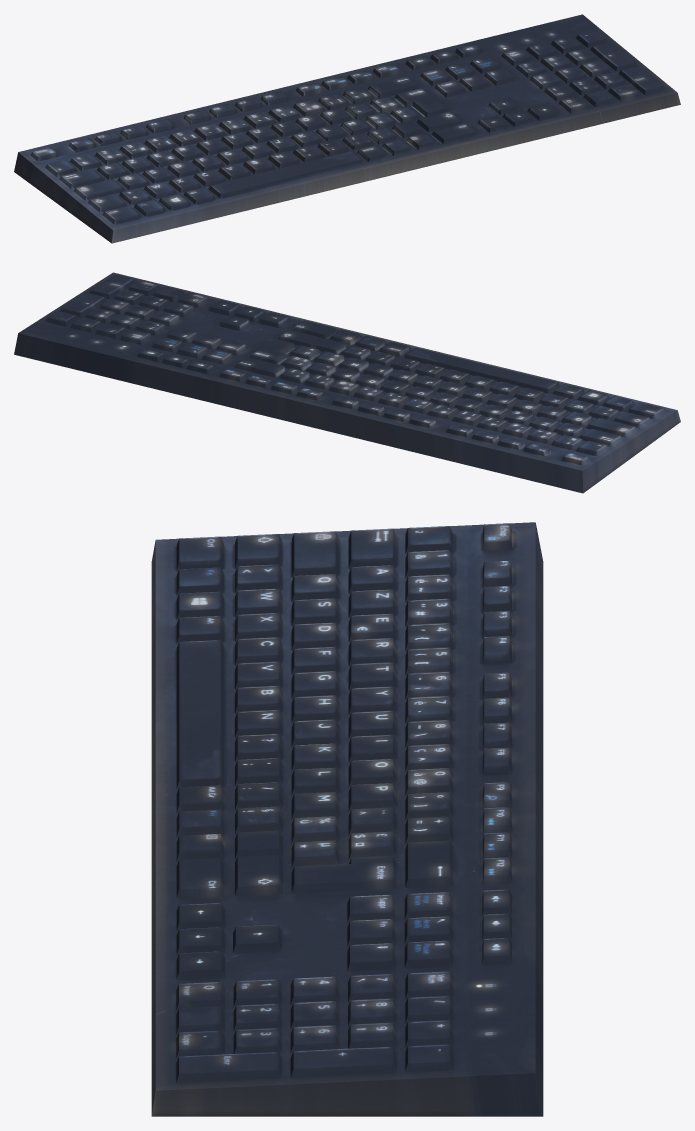
File: keyboard.glb
3 renders of one model, top to bottom at view 1: azimuth 30°, elevation 25°; view 2: azimuth 150°, elevation 25°; view 3: azimuth 270°, elevation 25°, orthographic. The views are drawn at different scales.
Parts seen in each view (by area): view 1: keyboard; view 2: keyboard; view 3: keyboard.
Boxes of the visible parts, x1,y1,x2,y2 form: keyboard: [14, 14, 680, 243]; keyboard: [14, 272, 680, 493]; keyboard: [151, 522, 543, 1116].
Bounding box in the file's own units: 0.3731 × 0.0149 × 0.1111.
1 material, 1 textured.
